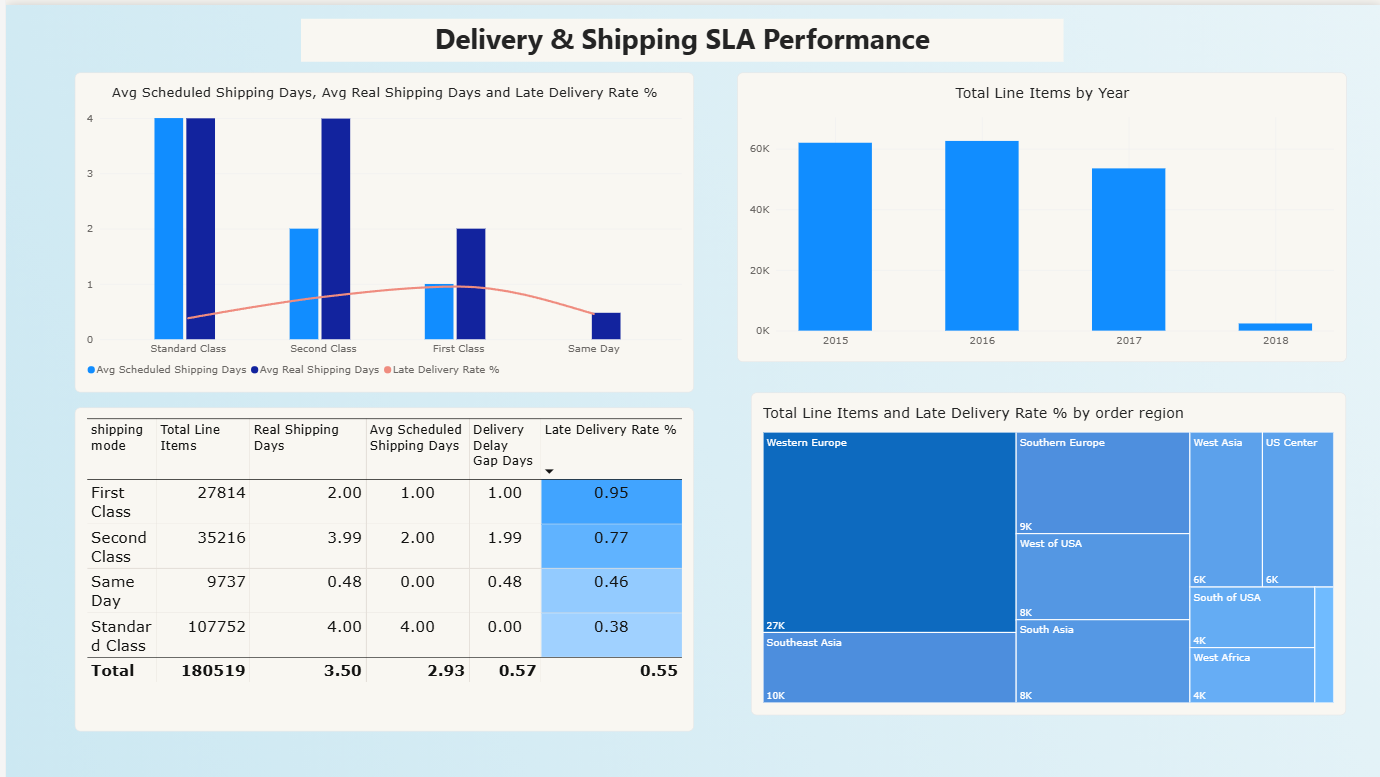

What the dashboard file says about the page in this screenshot:
{"tool":"powerbi","page":{"name":"Page 2","canvas":[1920,1080],"ordinal":1},"visuals":[{"type":"lineClusteredColumnComboChart","title":"Avg Scheduled Shipping Days, Avg Real Shipping Days and Late Delivery Rate %","fields":{"Category":["fact_order_items.shipping_mode"],"Y":["_measure.Avg Scheduled Shipping Days","_measure.Avg Real Shipping Days"],"Y2":["_measure.Late Delivery Rate %"]},"box":[96,94,864,446],"z":0},{"type":"clusteredColumnChart","fields":{"Category":["fact_order_items.shipping_date.Variation.Date Hierarchy.Year","fact_order_items.shipping_date.Variation.Date Hierarchy.Quarter","fact_order_items.shipping_date.Variation.Date Hierarchy.Month","fact_order_items.shipping_date.Variation.Date Hierarchy.Day"],"Y":["_measure.Total Line Items"]},"box":[1020,94,850,404],"z":1000},{"type":"treemap","fields":{"Group":["fact_order_items.order_region"],"Values":["_measure.Total Line Items"]},"box":[1040,540,830,450],"z":2000},{"type":"tableEx","fields":{"Values":["fact_order_items.shipping_mode","_measure.Total Line Items","_measure.Avg Real Shipping Days","_measure.Avg Scheduled Shipping Days","_measure.Delivery Delay Gap Days","_measure.Late Delivery Rate %"]},"box":[96,562,864,452],"z":3000},{"type":"textbox","title":" Delivery & Shipping SLA Performance","box":[412,20,1064,60],"z":4000}]}

Visuals, with their boxes in screenshot pixels (x1, y1, x2, y2), scaled from the page's 1920x1080 canvas onto the 1380x777 screenshot:
"Avg Scheduled Shipping Days, Avg Real Shipping Days and Late Delivery Rate %" lineClusteredColumnComboChart: select_region(69, 68, 690, 388)
clusteredColumnChart - fact_order_items.shipping_date.Variation.Date Hierarchy.Year x fact_order_items.shipping_date.Variation.Date Hierarchy.Quarter: select_region(733, 68, 1344, 358)
treemap - fact_order_items.order_region x _measure.Total Line Items: select_region(748, 388, 1344, 712)
tableEx - fact_order_items.shipping_mode x _measure.Total Line Items: select_region(69, 404, 690, 730)
" Delivery & Shipping SLA Performance" textbox: select_region(296, 14, 1061, 58)
